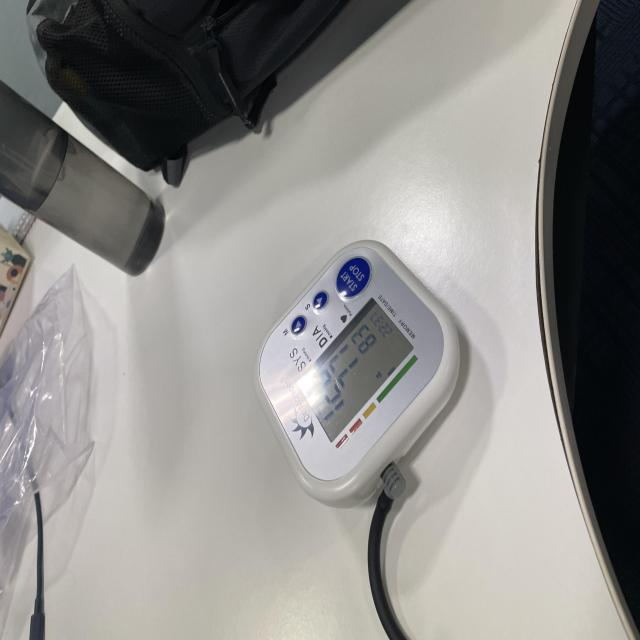bp: (253, 241, 454, 509)
